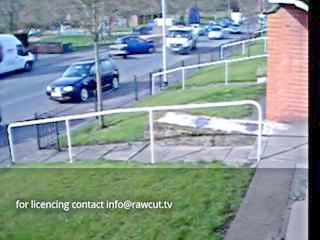Car: (51, 58, 118, 101), (0, 34, 35, 78), (109, 36, 155, 55), (167, 27, 195, 50), (132, 25, 152, 35), (208, 27, 224, 39), (190, 24, 204, 36), (219, 19, 233, 28), (229, 24, 241, 33)
